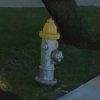a fire hydrant: (40, 19, 65, 89)
